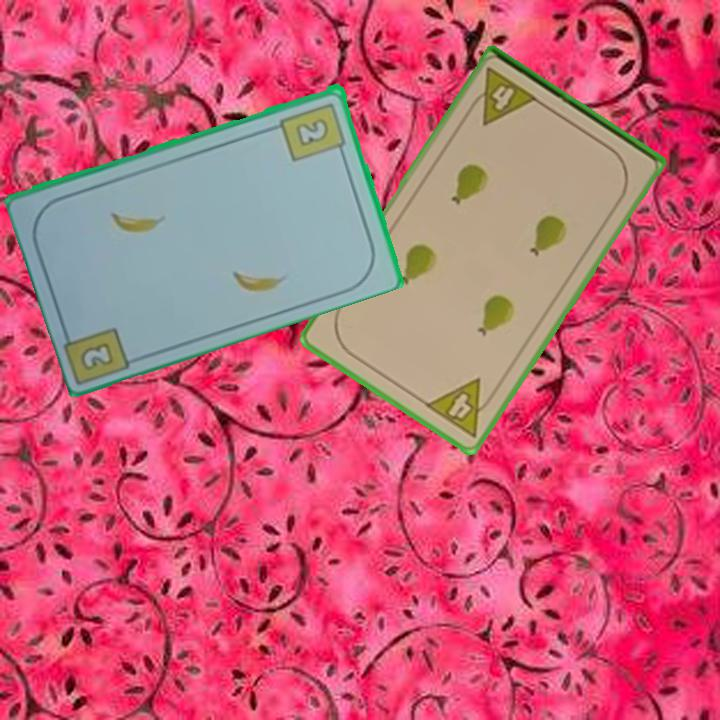2b: (277, 98, 349, 164), (76, 338, 117, 373)
4p: (421, 374, 501, 441), (463, 63, 541, 129)
